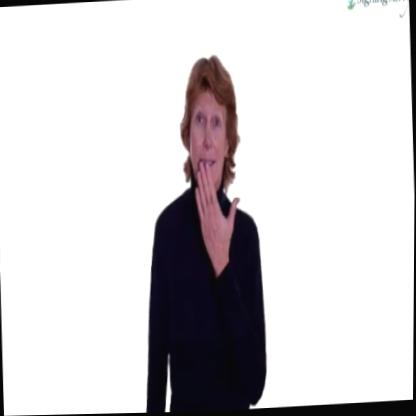ThankYou: (133, 49, 271, 414)
